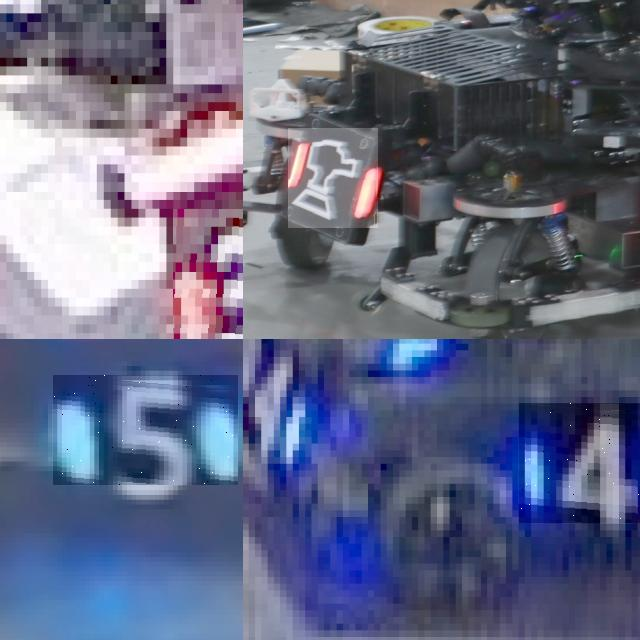B4: (518, 403, 640, 523)
B5: (53, 376, 238, 486)
R3: (173, 209, 243, 339)
Rs: (288, 128, 378, 228)
